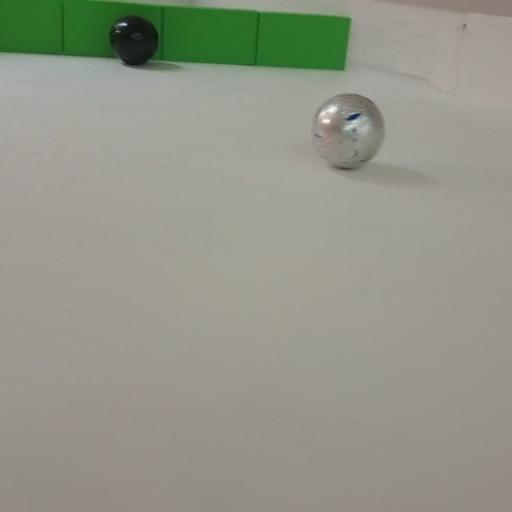alive: (312, 93, 384, 169)
dead: (109, 16, 159, 66)
